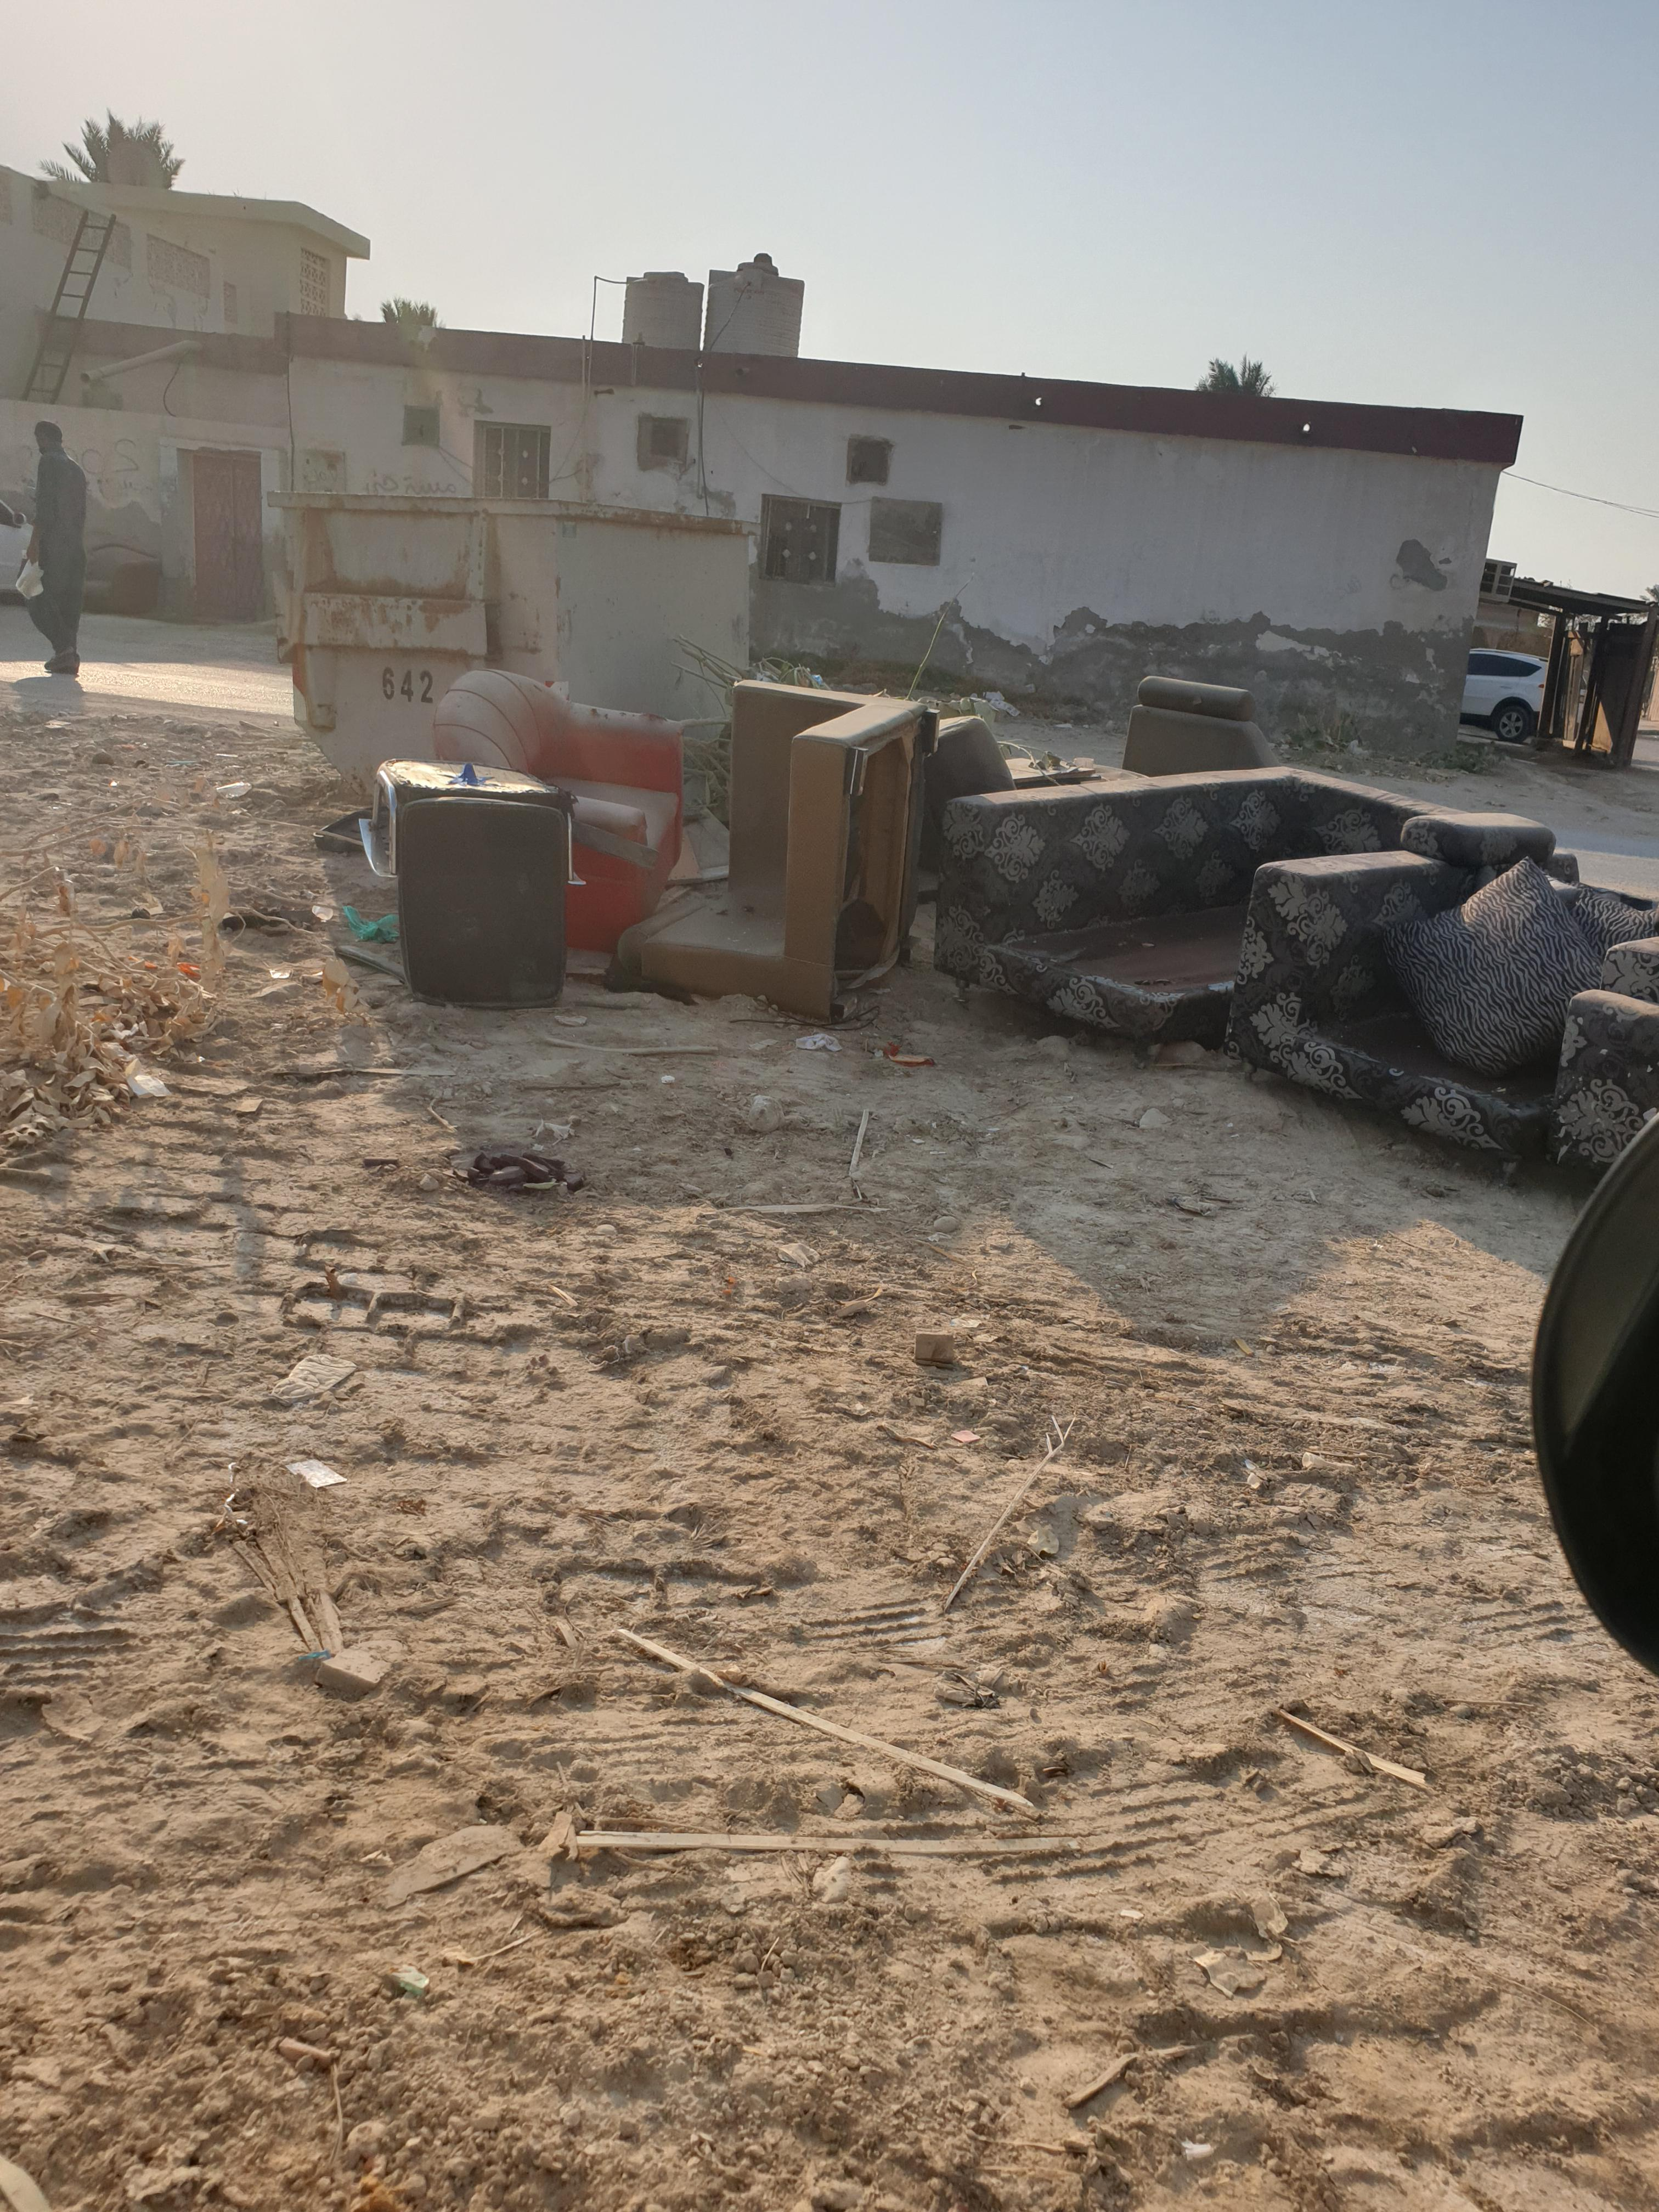uncollected_waste: (227, 730, 1547, 1216), (1169, 768, 1568, 1184), (936, 683, 1331, 1059), (730, 742, 1044, 1080), (275, 740, 641, 1021)
